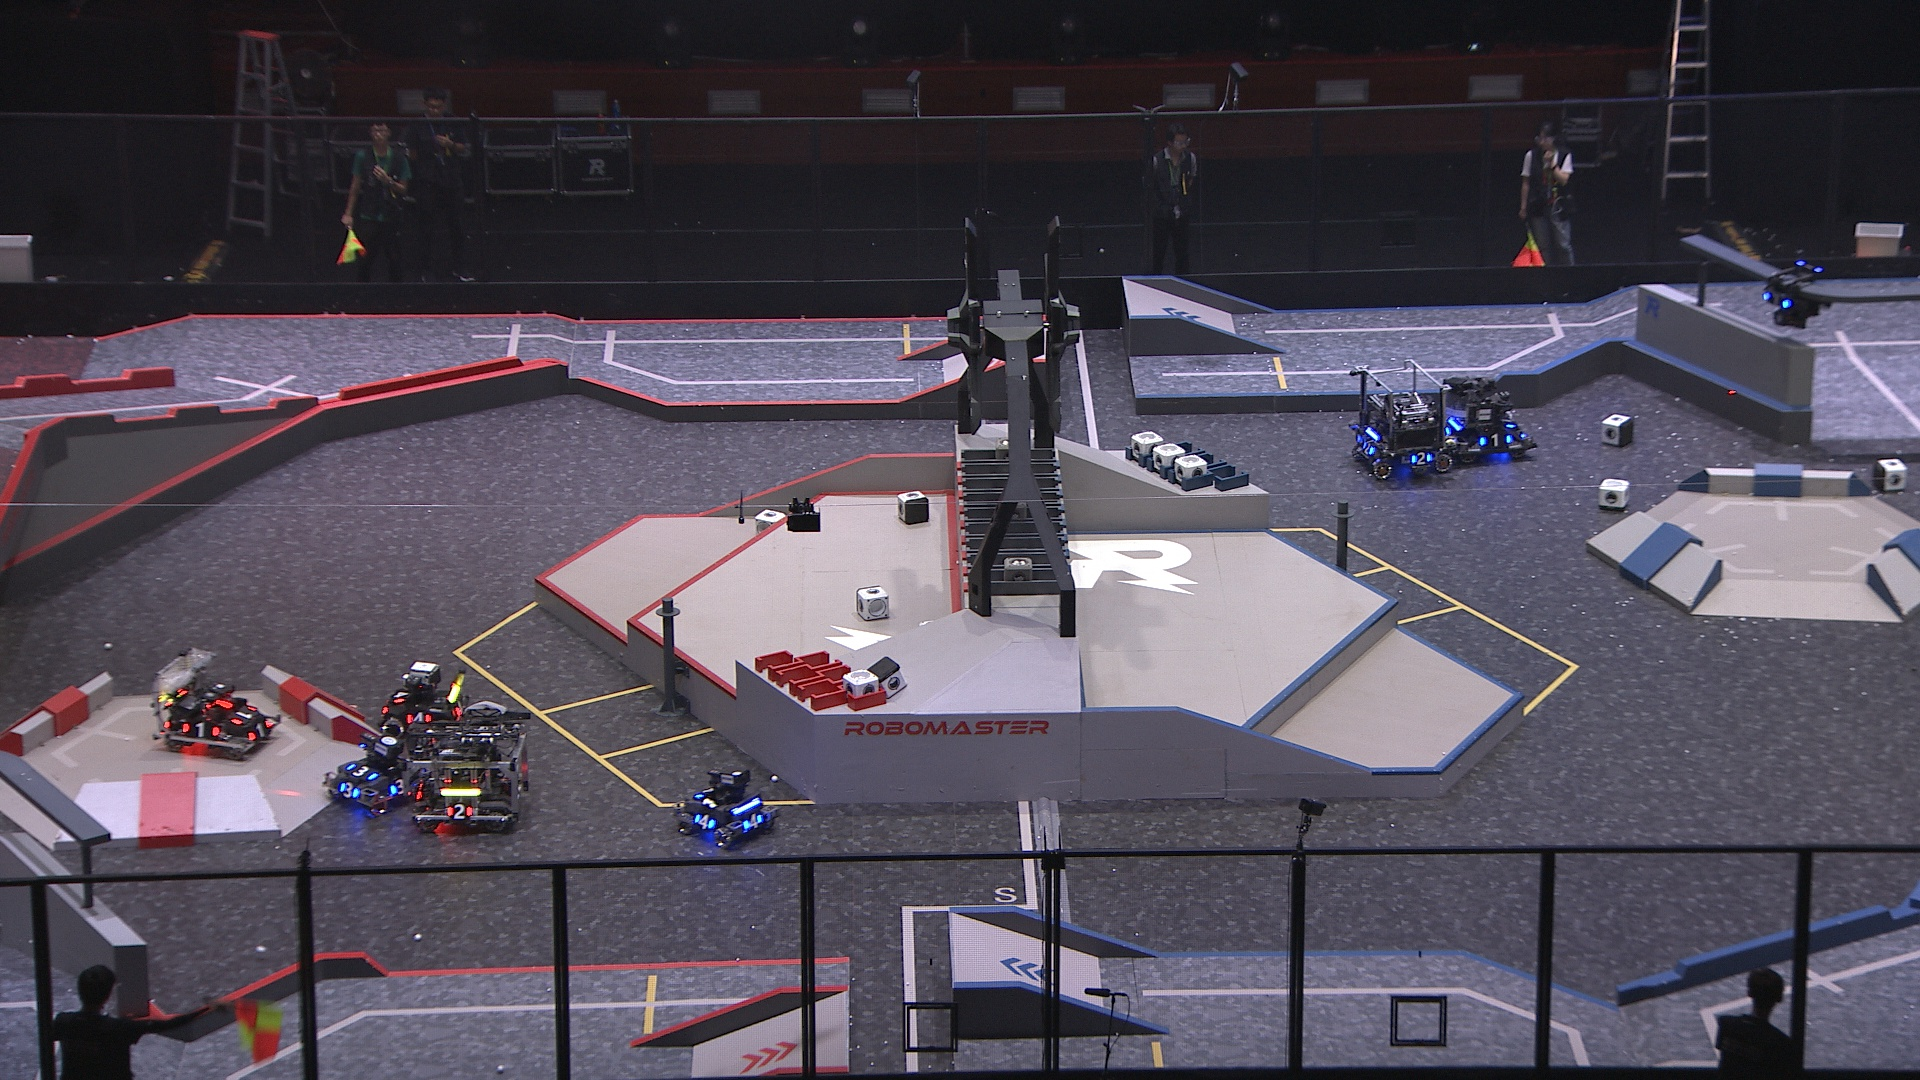armor: (179, 721, 222, 738), (444, 802, 476, 822), (344, 764, 380, 781), (229, 704, 257, 725), (1480, 433, 1513, 450), (245, 719, 276, 737), (1760, 291, 1792, 309), (401, 711, 433, 727), (742, 811, 764, 832), (386, 778, 409, 798), (692, 814, 717, 831), (338, 781, 359, 800), (1408, 450, 1433, 465), (1361, 439, 1377, 458), (390, 688, 410, 703), (452, 702, 465, 723), (1501, 417, 1518, 431)
car: (409, 709, 527, 837), (149, 647, 280, 764), (1348, 361, 1453, 481), (1437, 375, 1538, 465), (320, 731, 423, 815), (674, 769, 778, 847), (381, 659, 471, 740)
watcher: (1760, 258, 1836, 328)
